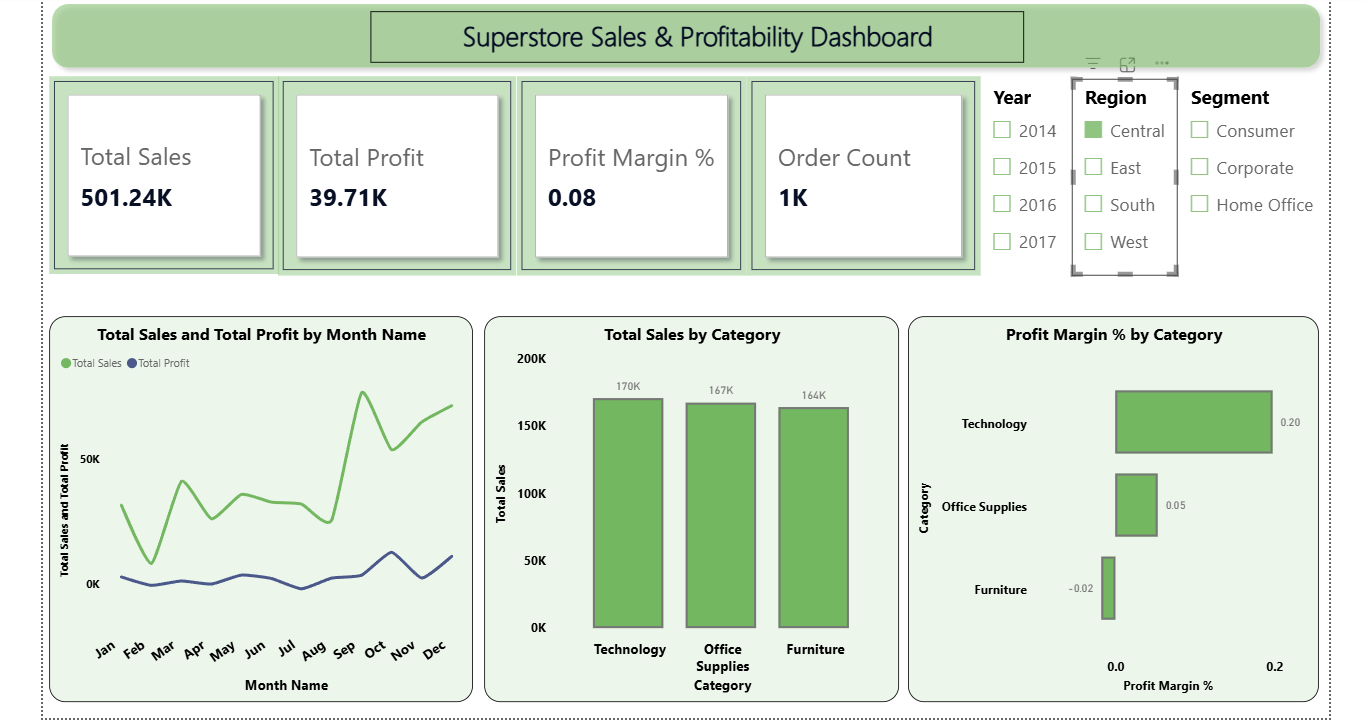

This screenshot's page, from the dashboard's own definition file:
{"tool":"powerbi","page":{"name":"Page 1","canvas":[1280,720],"ordinal":0},"visuals":[{"type":"cardVisual","fields":{"Data":["DateTable.Total Sales"]},"box":[5.7,81.4,228.6,197.1],"z":0},{"type":"shape","box":[0,0,1280,81.4],"z":1000,"group":"g1"},{"type":"cardVisual","fields":{"Data":["DateTable.Total Profit"]},"box":[234.3,81.4,237.1,198.6],"z":2000},{"type":"cardVisual","fields":{"Data":["DateTable.Profit Margin %"]},"box":[471.4,81.4,228.6,198.6],"z":3000},{"type":"cardVisual","fields":{"Data":["DateTable.Order Count"]},"box":[700,81.4,232.9,198.6],"z":4000},{"type":"lineChart","fields":{"Category":["DateTable.Month Name"],"Y":["DateTable.Total Sales","DateTable.Total Profit"]},"box":[6.2,320,421.2,383.8],"z":5000},{"type":"clusteredColumnChart","fields":{"Category":["Orders.Category"],"Y":["DateTable.Total Sales"]},"box":[438.8,320,412.5,383.8],"z":6000},{"type":"clusteredBarChart","fields":{"Category":["Orders.Category"],"Y":["DateTable.Profit Margin %"]},"box":[861.4,320,408.6,384.3],"z":7000},{"type":"slicer","fields":{"Values":["DateTable.Year"]},"box":[932.9,82.9,91.4,197.1],"z":8000},{"type":"slicer","fields":{"Values":["Orders.Region"]},"box":[1024.3,82.9,105.7,197.1],"z":9000},{"type":"slicer","fields":{"Values":["Orders.Segment"]},"box":[1130,82.9,150,195.7],"z":10000},{"type":"textbox","box":[325.7,15.7,650,51.4],"z":11000,"group":"g1"},{"type":"group","id":"g1","title":"Group 1","box":[0,0,1280,81.4],"z":11001}]}

Visuals, with their boxes in screenshot pixels (x1, y1, x2, y2):
cardVisual - DateTable.Total Sales: 55:74:283:270
shape: 50:0:1322:74
cardVisual - DateTable.Total Profit: 283:74:518:271
cardVisual - DateTable.Profit Margin %: 518:74:746:271
cardVisual - DateTable.Order Count: 746:74:977:271
lineChart - DateTable.Month Name x DateTable.Total Sales: 56:311:475:692
clusteredColumnChart - Orders.Category x DateTable.Total Sales: 486:311:896:692
clusteredBarChart - Orders.Category x DateTable.Profit Margin %: 906:311:1312:693
slicer - DateTable.Year: 977:75:1068:271
slicer - Orders.Region: 1068:75:1173:271
slicer - Orders.Segment: 1173:75:1322:270
textbox: 374:8:1020:60
"Group 1" group: 50:0:1322:74
